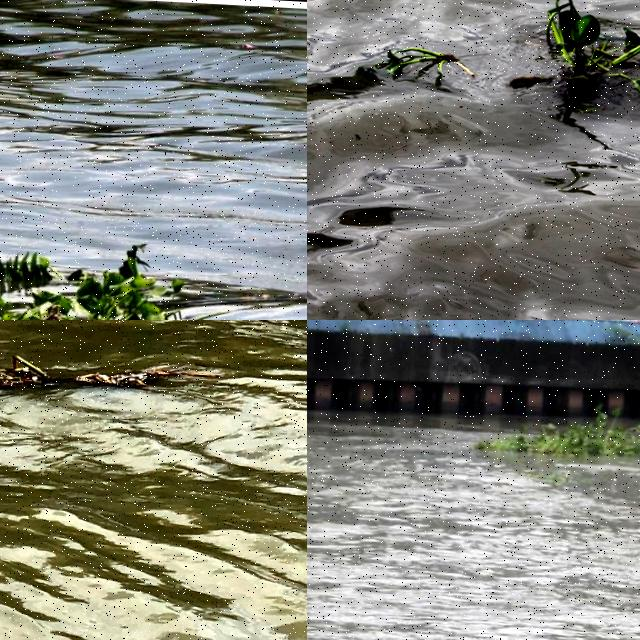water-hyacinth: (1, 244, 200, 321), (482, 393, 640, 464), (526, 1, 640, 97), (370, 37, 467, 94)
